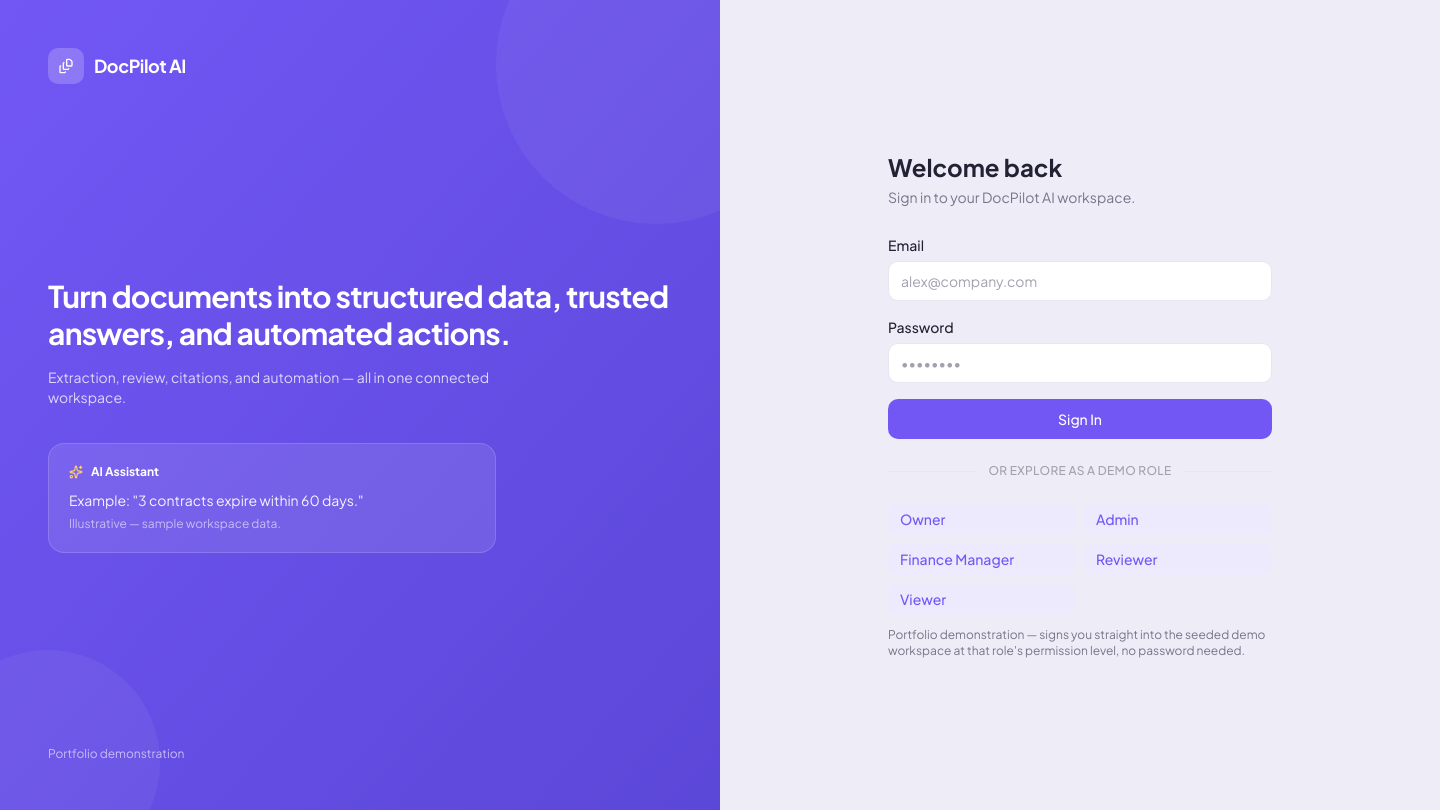
Scenario: SignInPage — validation › rejects an invalid email format
The width and height of the screenshot is (1440, 810).
Type "not-an-email" into the field labelled "Email" at (1080, 281), box [888, 261, 1272, 301]
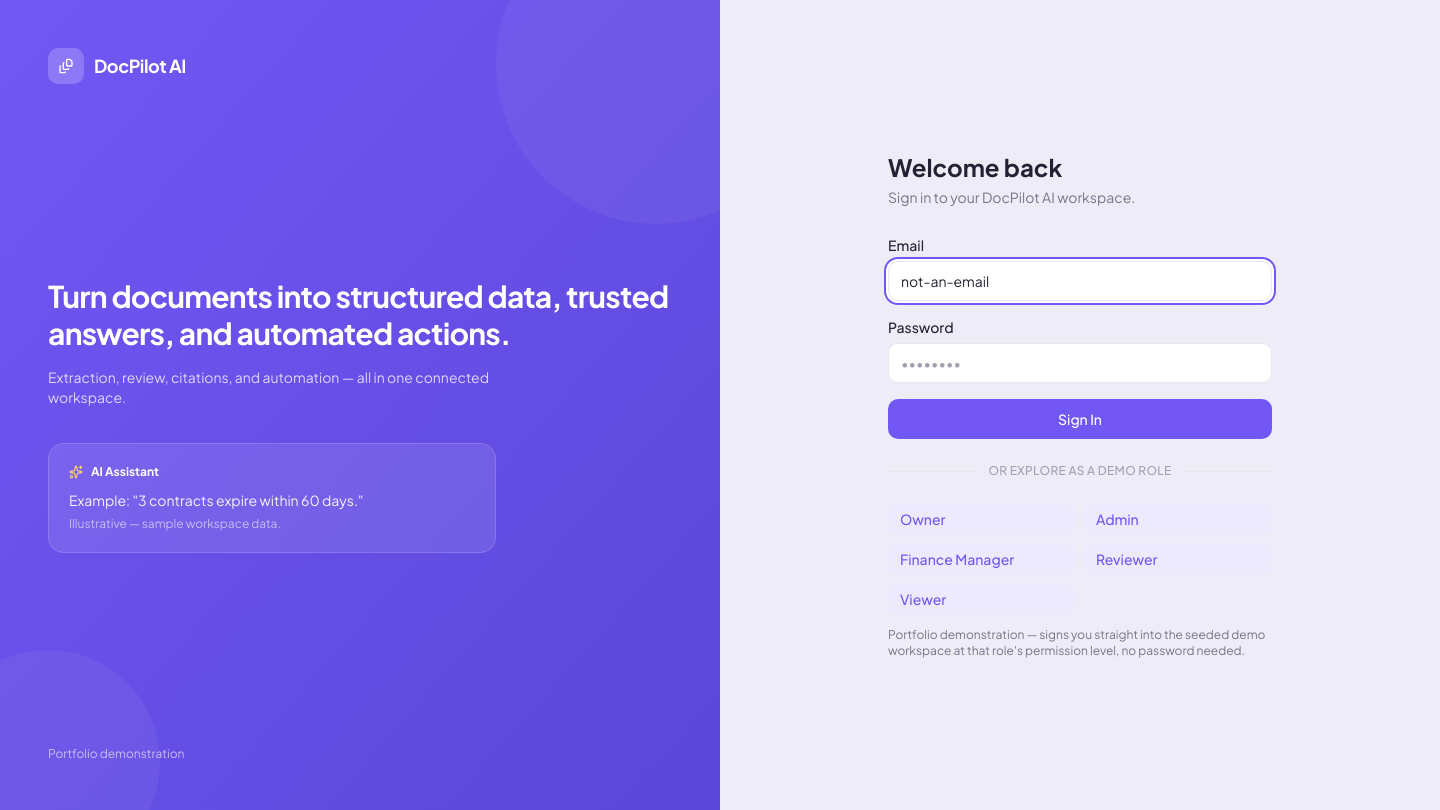
Type "something" into the password field labelled "Password" at (1080, 363), box [888, 343, 1272, 383]
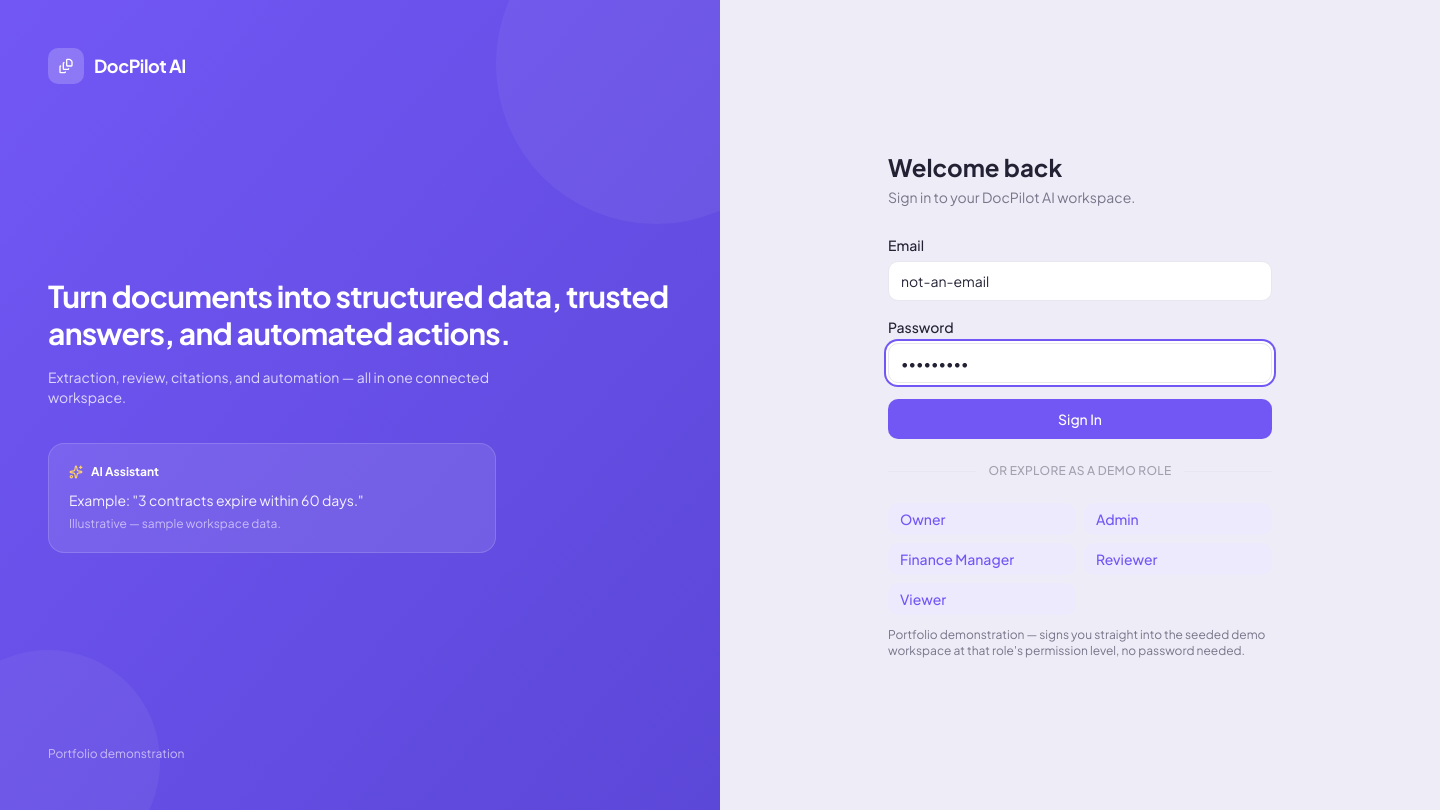
Click the button "Sign In" at (1080, 419), box [888, 399, 1272, 439]
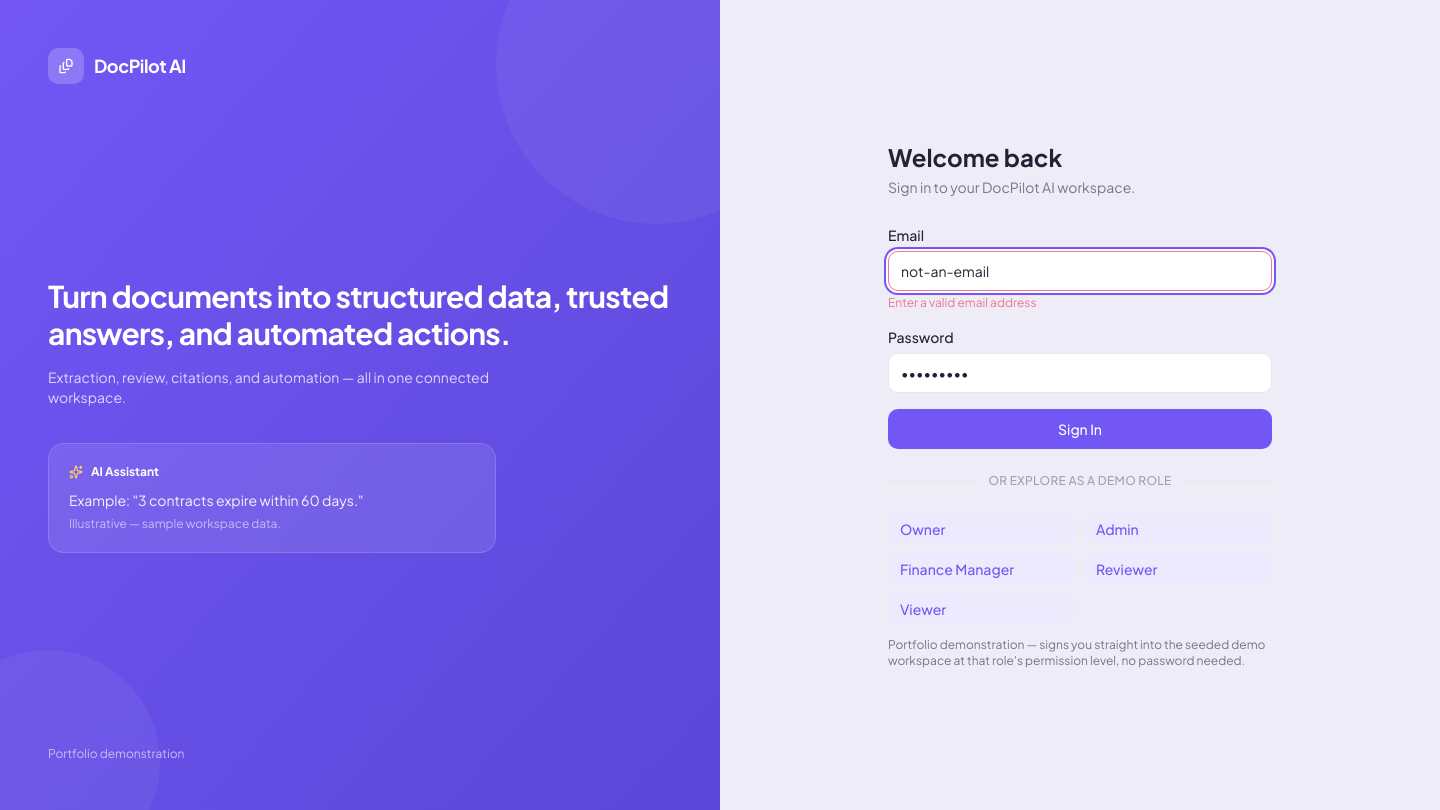
Expected: the text "Enter a valid email address" is shown, [888, 295, 1037, 310]
